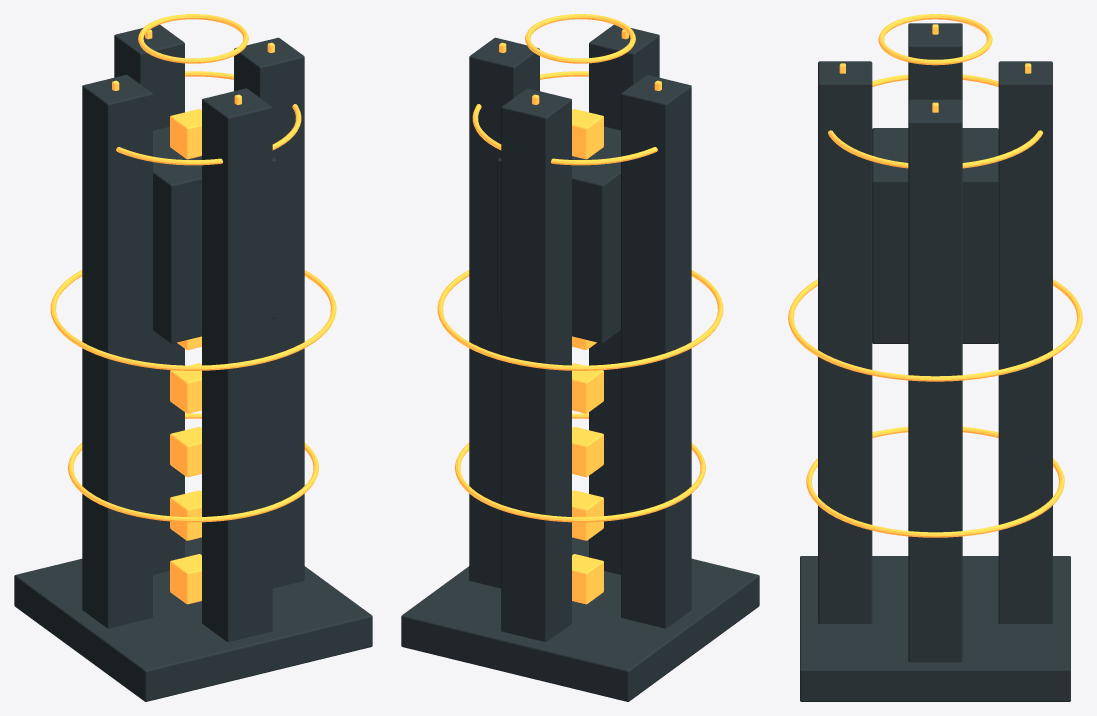
File: echelon-core.glb
3 renders of one model, left to right at view 1: azimuth 30°, elevation 25°; view 2: azimuth 150°, elevation 25°; view 3: azimuth 270°, elevation 25°, orthographic. The views are drawn at different scales.
Parts seen in each view (by area): view 1: Armored data spine.003, Armored data spine.002, Foundation, Armored data spine, Suspended intelligence, Armored data spine.001, Torus.001, Torus, Torus.003, Core, Core.007, Core.002 (+3 smaller); view 2: Armored data spine.001, Armored data spine.002, Foundation, Armored data spine, Suspended intelligence, Armored data spine.003, Torus.001, Torus, Torus.003, Core, Core.007, Core.002 (+3 smaller); view 3: Armored data spine, Armored data spine.001, Armored data spine.003, Foundation, Suspended intelligence, Armored data spine.002, Torus.001, Torus, Torus.002, Torus.003.
Boxes of the visible parts, x1,y1,x2,y2 form: Armored data spine.003: (202,88,272,641); Armored data spine.002: (82,74,152,628); Foundation: (14,537,372,701); Armored data spine: (234,37,304,588); Suspended intelligence: (153,126,276,343); Armored data spine.001: (114,24,184,574); Torus.001: (50,270,336,370); Torus: (68,413,318,522); Torus.003: (138,14,248,63); Core: (170,554,201,604); Core.007: (170,109,201,159); Core.002: (170,427,201,477); Armored data spine.001: (501,88,571,641); Armored data spine.002: (621,74,691,628); Foundation: (401,537,759,701); Armored data spine: (469,37,539,588); Suspended intelligence: (497,126,620,343); Armored data spine.003: (589,24,659,574); Torus.001: (437,270,723,370); Torus: (455,413,705,522); Torus.003: (525,14,635,63); Core: (572,554,603,604); Core.007: (572,109,603,159); Core.002: (572,427,603,477); Armored data spine: (908,99,962,662); Armored data spine.001: (998,61,1052,623); Armored data spine.003: (818,61,872,623); Foundation: (800,556,1070,701); Suspended intelligence: (872,128,998,343); Armored data spine.002: (908,23,962,100); Torus.001: (788,279,1082,381); Torus: (806,426,1064,537); Torus.002: (828,74,1042,168); Torus.003: (878,14,992,65).
Size of the model in its own units: 16.32 by 37.16 by 16.32.
